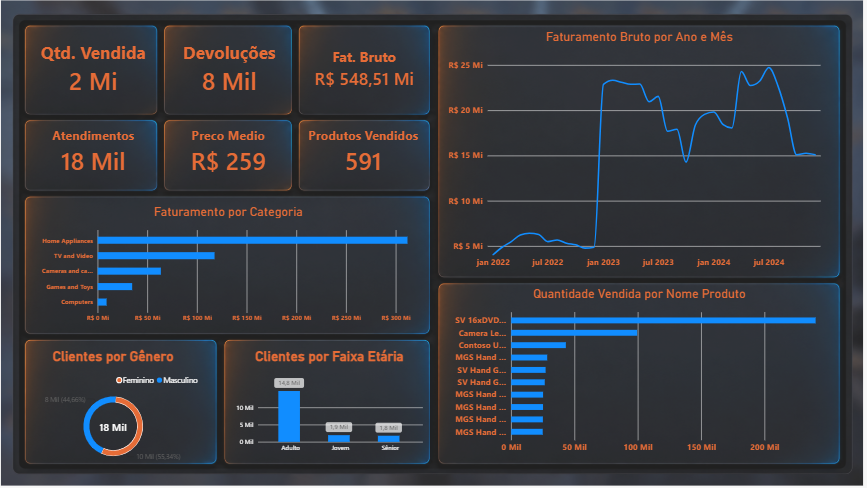

Layout of this report page (visuals, bound fields, positions):
{"tool":"powerbi","page":{"name":"Página 1","canvas":[1920,1080],"ordinal":0},"visuals":[{"type":"cardVisual","fields":{"Data":["Base Vendas.Clientes Atendidos"]},"box":[172.9,286.6,261.6,143.3],"z":0},{"type":"cardVisual","fields":{"Data":["Sum(Base Vendas.Qtd. Vendida)"]},"box":[172.9,106.9,261.6,179.7],"z":1},{"type":"cardVisual","fields":{"Data":["Sum(Base Vendas.Qtd. Devolvida)"]},"box":[436.8,106.9,261.6,179.7],"z":2},{"type":"cardVisual","fields":{"Data":["Base Vendas.Faturamento Bruto"]},"box":[698.4,106.9,261.6,179.7],"z":3},{"type":"cardVisual","fields":{"Data":["Base Vendas.Preco Medio Praticado"]},"box":[434.5,286.6,261.6,143.3],"z":4},{"type":"cardVisual","fields":{"Data":["Base Vendas.Produtos Vendidos"]},"box":[696.1,286.6,261.6,143.3],"z":5},{"type":"lineChart","fields":{"Category":["Base Vendas.Data Venda.Variation.Hierarquia de datas.Ano","Base Vendas.Data Venda.Variation.Hierarquia de datas.Mês"],"Y":["Base Vendas.Faturamento Bruto"]},"box":[975.9,106.9,773.5,498.2],"z":6},{"type":"barChart","title":"Faturamento por Categoria","fields":{"Category":["Produto.Categoria"],"Y":["Base Vendas.Faturamento Bruto"]},"box":[172.8,446.1,784.8,263.9],"z":7},{"type":"donutChart","title":"Clientes por Gênero","fields":{"Category":["Clientes.Genero"],"Y":["Base Vendas.Clientes Atendidos"]},"box":[157,725.7,369.2,255.6],"z":8},{"type":"lineClusteredColumnComboChart","title":"Clientes por Faixa Etária","fields":{"Category":["Clientes.Faixa Etária"],"Y":["Base Vendas.Clientes Atendidos"]},"box":[564.2,725.7,393.6,236.6],"z":9},{"type":"clusteredBarChart","fields":{"Category":["Produto.Nome Produto"],"Y":["Base Vendas.Quantidade Vendida"]},"box":[975.9,605.1,773.5,357.2],"z":10}]}

Visuals, with their boxes in screenshot pixels (x1, y1, x2, y2), scaled from the page's 1920x1080 canvas onto the 867x488 screenshot:
cardVisual - Base Vendas.Clientes Atendidos: bbox=[78, 130, 196, 194]
cardVisual - Sum(Base Vendas.Qtd. Vendida): bbox=[78, 48, 196, 130]
cardVisual - Sum(Base Vendas.Qtd. Devolvida): bbox=[197, 48, 315, 130]
cardVisual - Base Vendas.Faturamento Bruto: bbox=[315, 48, 434, 130]
cardVisual - Base Vendas.Preco Medio Praticado: bbox=[196, 130, 314, 194]
cardVisual - Base Vendas.Produtos Vendidos: bbox=[314, 130, 432, 194]
lineChart - Base Vendas.Data Venda.Variation.Hierarquia de datas.Ano x Base Vendas.Data Venda.Variation.Hierarquia de datas.Mês: bbox=[441, 48, 790, 273]
"Faturamento por Categoria" barChart: bbox=[78, 202, 432, 321]
"Clientes por Gênero" donutChart: bbox=[71, 328, 238, 443]
"Clientes por Faixa Etária" lineClusteredColumnComboChart: bbox=[255, 328, 433, 435]
clusteredBarChart - Produto.Nome Produto x Base Vendas.Quantidade Vendida: bbox=[441, 273, 790, 435]
